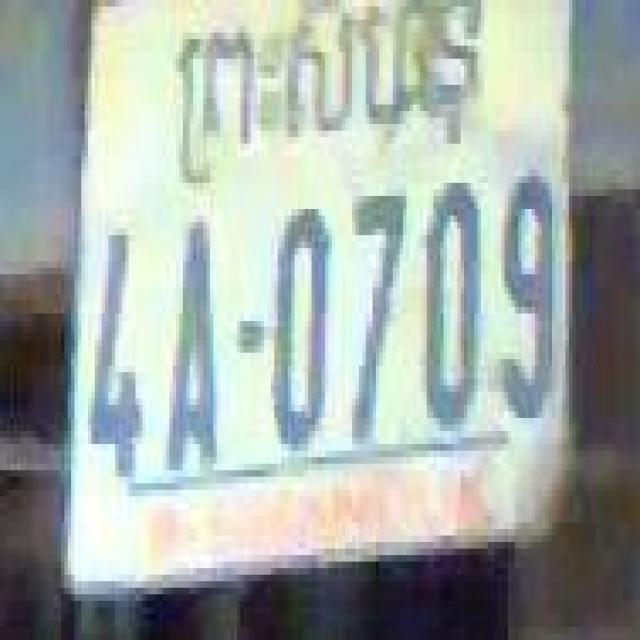Preah_Sihanouk: (173, 7, 482, 192)
